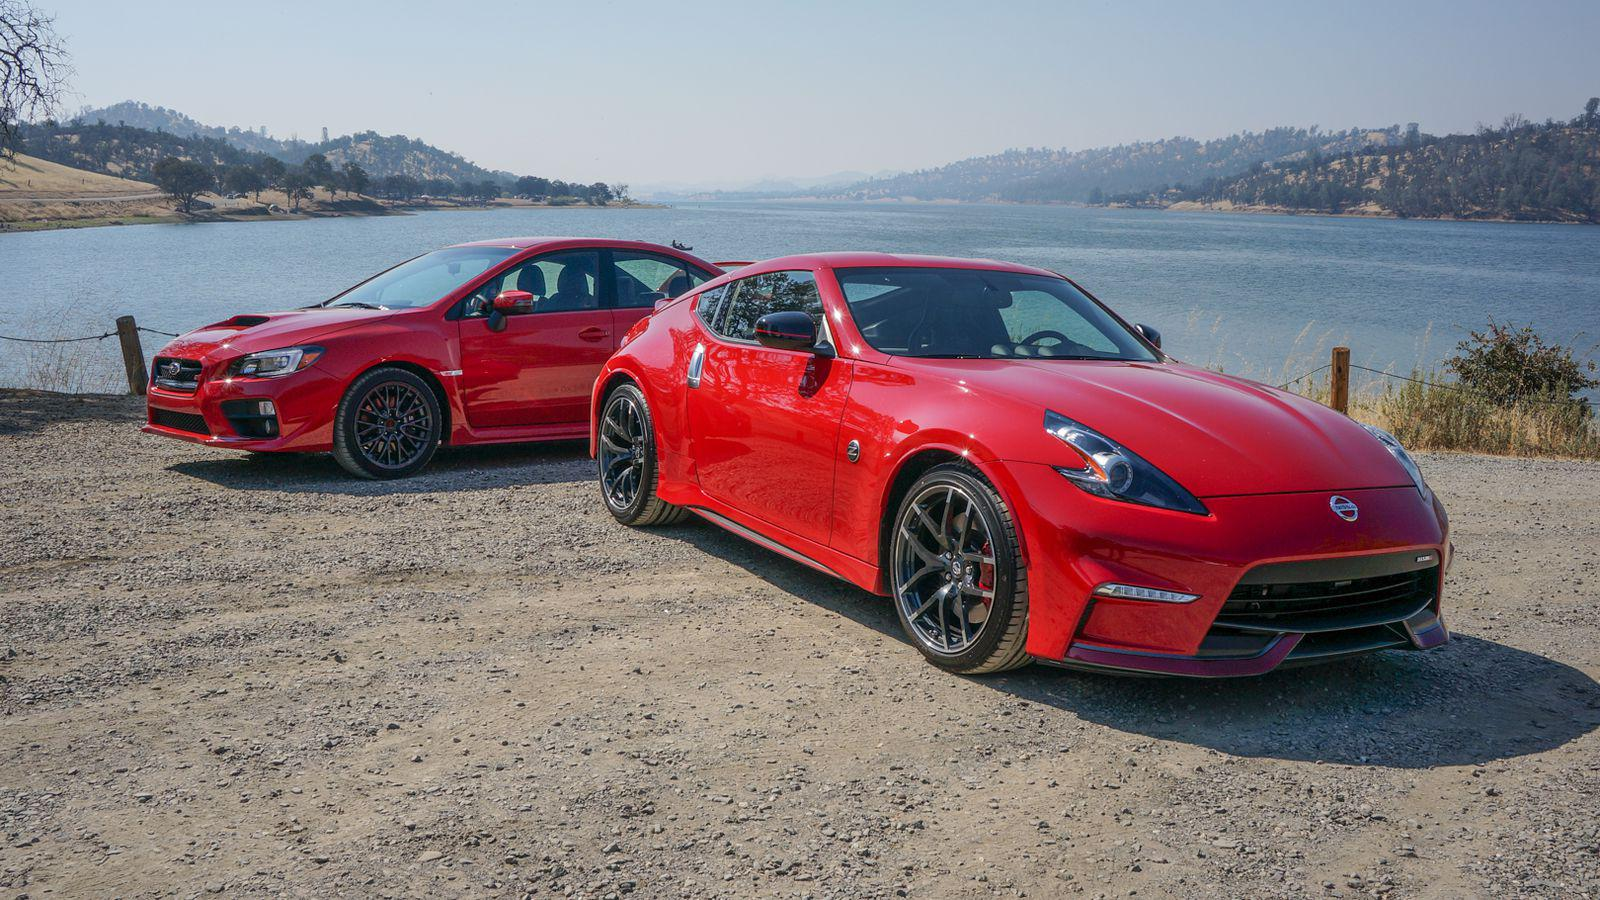car: (584, 215, 1492, 723), (90, 140, 770, 546)
